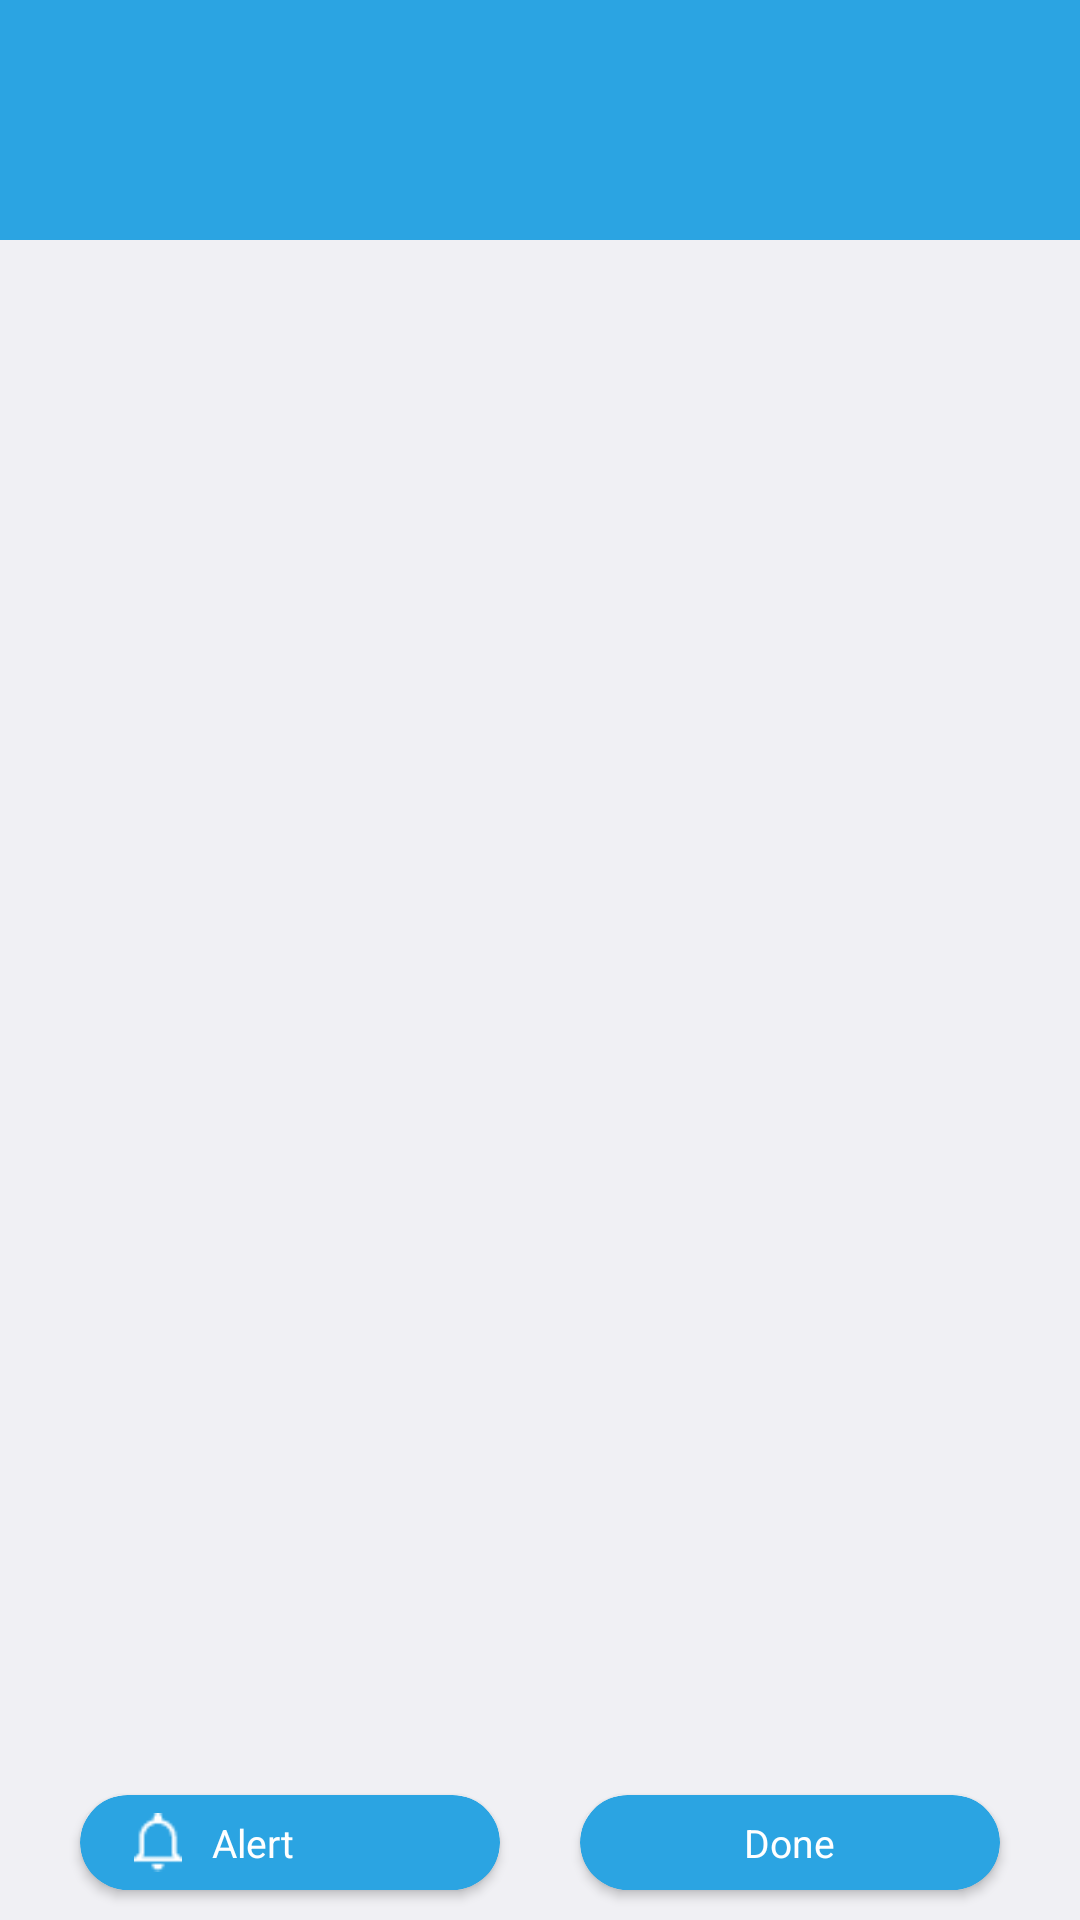

Locate icon controls on the screen. Image size 1080px×1920px, boxes as box(x1, y1, x2, y2).
notification: box(134, 1813, 182, 1872)
